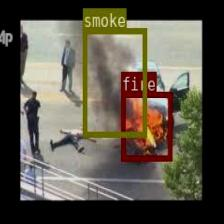fire: (120, 91, 171, 160)
smoke: (82, 27, 146, 136)
